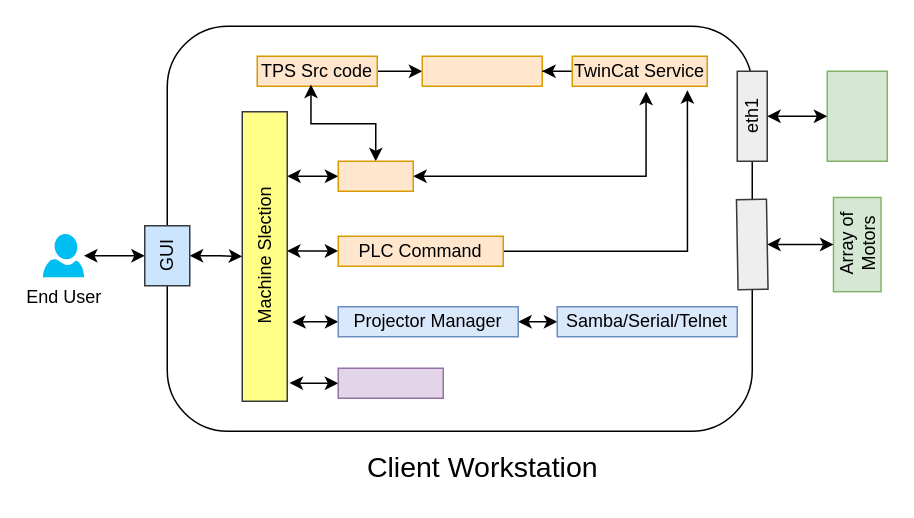
Some shapes in this 914 by 518 pixel diagram are drawn without their labels. Here are the shapes that lost their labels. From the top down, the centre of each, then its label:
At point 481,70: "TPS Build".
At point 856,115: "Laser Projector".
At point 375,175: "TPSC".
At point 751,244: "eth0".
At point 390,382: "Database".
